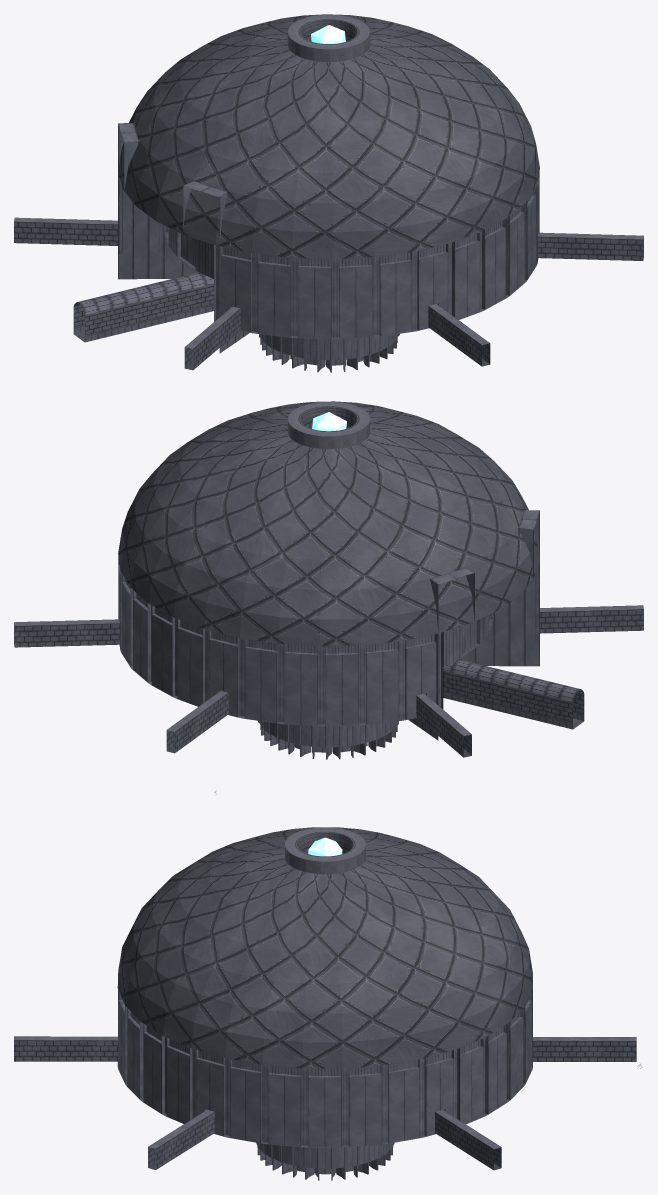
Rendered from Arena.fbx.
3 views of the same model, one above another, from view 1: azimuth 30°, elevation 25°; view 2: azimuth 150°, elevation 25°; view 3: azimuth 270°, elevation 25° (orthographic).
Parts seen in each view (by area): view 1: Dome, Outerwall, Gate, DomeSkylight, StandsArenaWall, LightCrystal; view 2: Dome, Outerwall, Gate, DomeSkylight, StandsArenaWall; view 3: Dome, Outerwall, DomeSkylight, StandsArenaWall, LightCrystal.
Part boxes in pixels (x1=…): Dome: x1=118, y1=14, x2=539, y2=259; Outerwall: x1=14, y1=171, x2=643, y2=369; Gate: x1=73, y1=123, x2=249, y2=353; DomeSkylight: x1=287, y1=14, x2=370, y2=61; StandsArenaWall: x1=259, y1=334, x2=399, y2=360; LightCrystal: x1=311, y1=25, x2=345, y2=43; Dome: x1=118, y1=401, x2=539, y2=646; Outerwall: x1=14, y1=556, x2=643, y2=757; Gate: x1=408, y1=510, x2=584, y2=740; DomeSkylight: x1=288, y1=401, x2=369, y2=449; StandsArenaWall: x1=258, y1=721, x2=398, y2=747; Dome: x1=117, y1=827, x2=532, y2=1068; Outerwall: x1=14, y1=973, x2=636, y2=1170; DomeSkylight: x1=285, y1=827, x2=365, y2=874; StandsArenaWall: x1=256, y1=1142, x2=394, y2=1168; LightCrystal: x1=308, y1=837, x2=342, y2=856.
Bounding box in the file's own units: 18928 × 12016 × 21812.
